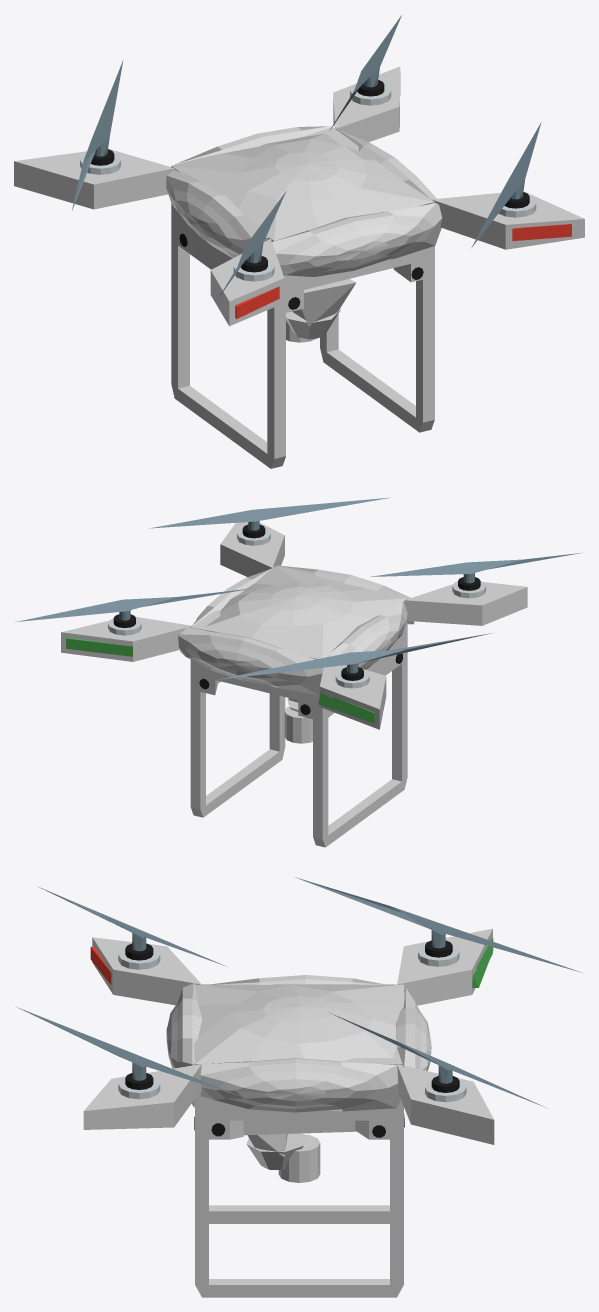
File: Drone.fbx
3 views of the same model, one above another, from view 1: azimuth 30°, elevation 25°; view 2: azimuth 150°, elevation 25°; view 3: azimuth 270°, elevation 25° (orthographic). The views are drawn at different scales.
Parts seen in each view (by area): view 1: group1802215358, group1900742671, group1635633909, group2109774117, group1451992339, group1947824049, group1434348068, group1351310026, group562219596, group1472813429, group1719908566, group1345748236 (+13 smaller); view 2: group1802215358, group2114471358, group1351310026, group1947824049, group2109774117, group1451992339, group1635633909, group1472813429, group1506967990, group1434348068, group1326258638, group255131489 (+11 smaller); view 3: group1802215358, group992375522, group2109774117, group1947824049, group1635633909, group1351310026, group1345748236, group1719908566, group1726010505, group1506967990, group562219596, group1900742671 (+10 smaller).
Part boxes in pixels (x1,y1,x2,y2): group1802215358: (171, 133, 434, 240); group1900742671: (270, 203, 442, 276); group1635633909: (14, 148, 174, 209); group2109774117: (431, 191, 584, 249); group1451992339: (166, 169, 269, 257); group1947824049: (333, 66, 400, 142); group1434348068: (267, 294, 285, 458); group1351310026: (210, 238, 284, 326); group562219596: (416, 258, 434, 422); group1472813429: (171, 222, 189, 388); group1719908566: (171, 384, 285, 468); group1345748236: (320, 347, 434, 432); group1802215358: (205, 566, 407, 658); group2114471358: (178, 626, 323, 694); group1351310026: (404, 582, 527, 625); group1947824049: (61, 616, 192, 661); group2109774117: (220, 522, 284, 576); group1451992339: (328, 602, 407, 669); group1635633909: (319, 665, 386, 729); group1472813429: (313, 704, 328, 839); group1506967990: (190, 674, 205, 809); group1434348068: (392, 644, 407, 781); group1326258638: (216, 633, 492, 679); group255131489: (149, 497, 389, 528); group1802215358: (194, 984, 404, 1063); group992375522: (200, 1058, 400, 1112); group2109774117: (83, 1064, 201, 1129); group1947824049: (397, 1064, 494, 1144); group1635633909: (397, 928, 492, 1005); group1351310026: (92, 937, 201, 1005); group1345748236: (195, 1279, 403, 1297); group1719908566: (209, 1205, 389, 1223); group1726010505: (195, 1095, 403, 1120); group1506967990: (390, 1120, 403, 1284); group562219596: (195, 1120, 208, 1284); group1900742671: (166, 982, 201, 1107).
Size of the model in its own units: 77 by 42 by 82.
